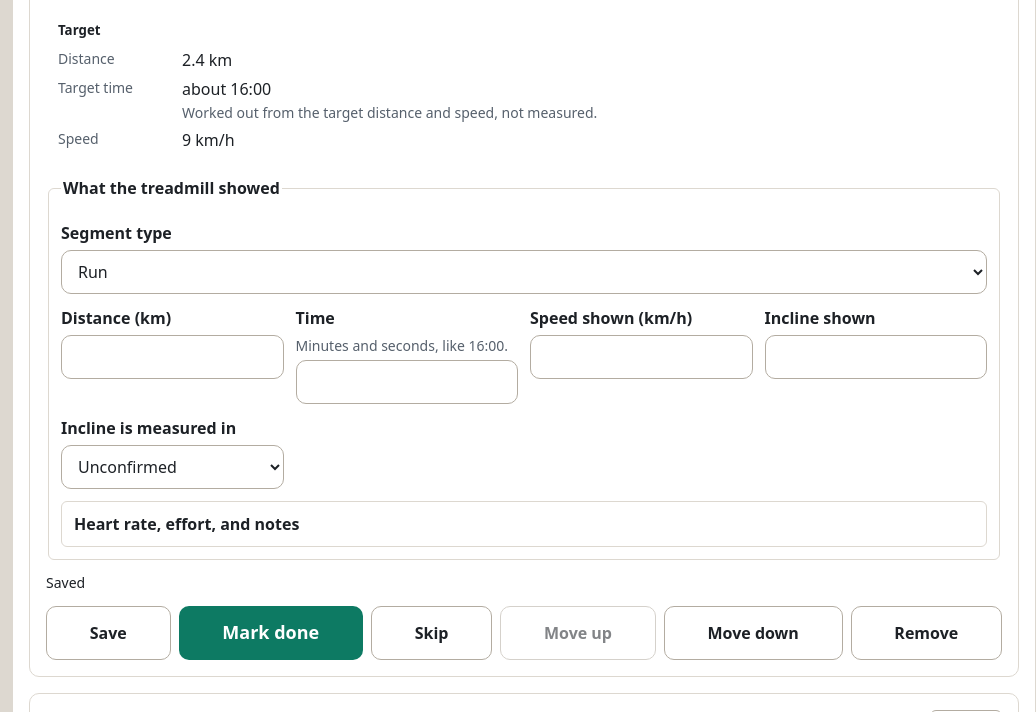
Test: completing a segment › writes the final values and the completion together
The image size is (1036, 712).
(page scrolled)
Type "3.05" into the field labelled "Distance (km)" at (172, 357), box x1=61 y1=335 x2=284 y2=379
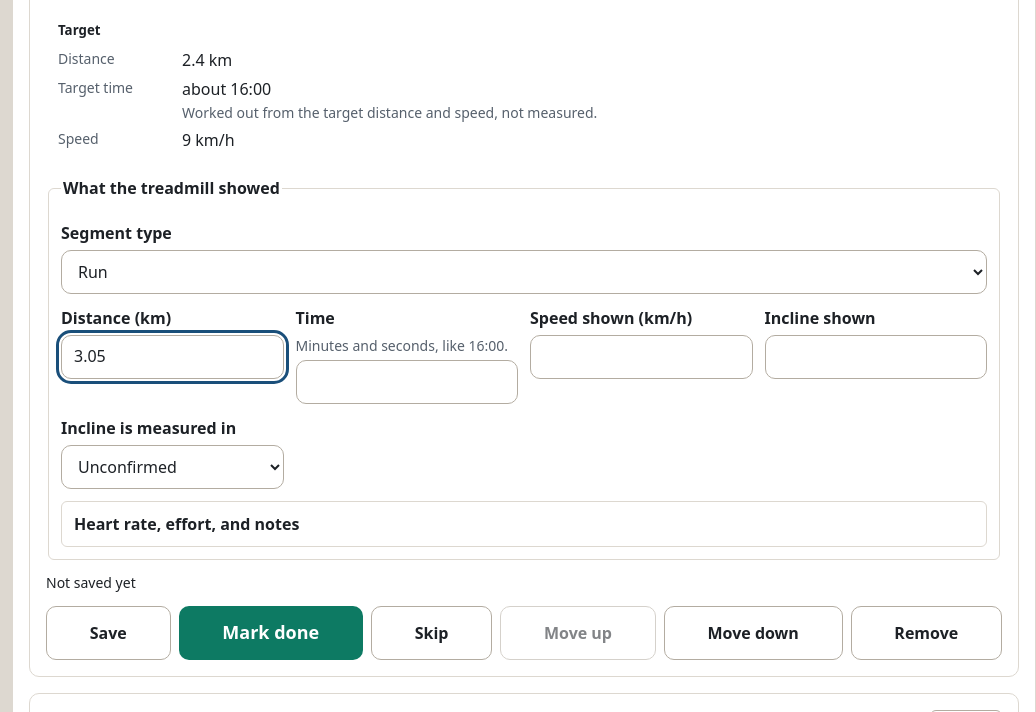
Type "20:50" into the field labelled "Time" at (407, 382), box x1=296 y1=360 x2=518 y2=404
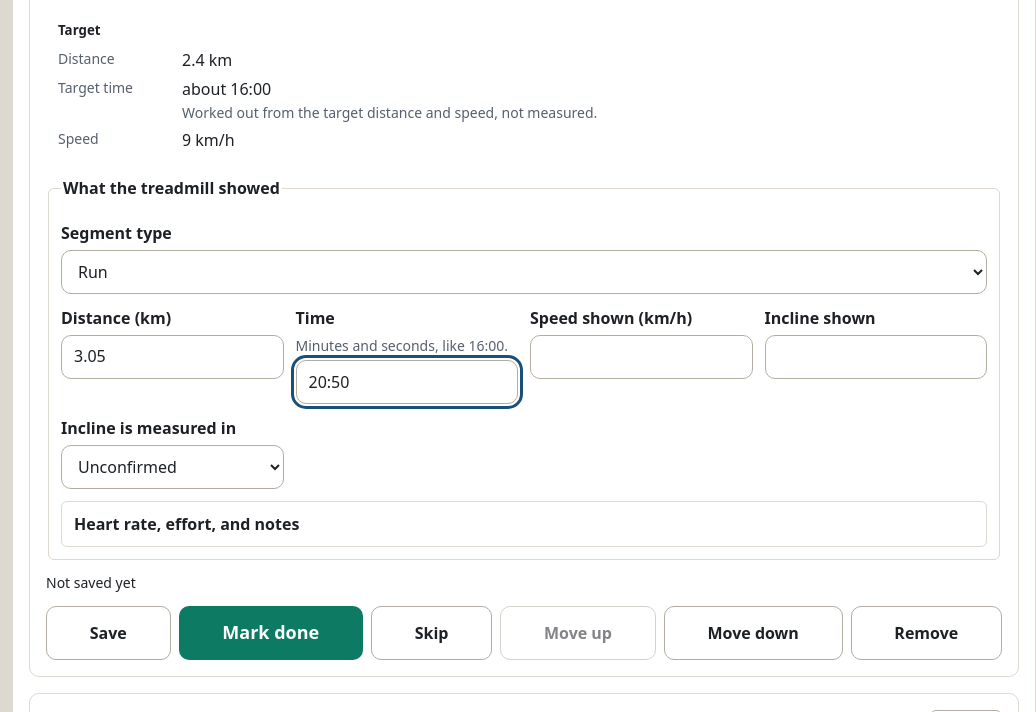
Click the button "Mark done" at (271, 633), box x1=179 y1=606 x2=363 y2=660
(page scrolled)
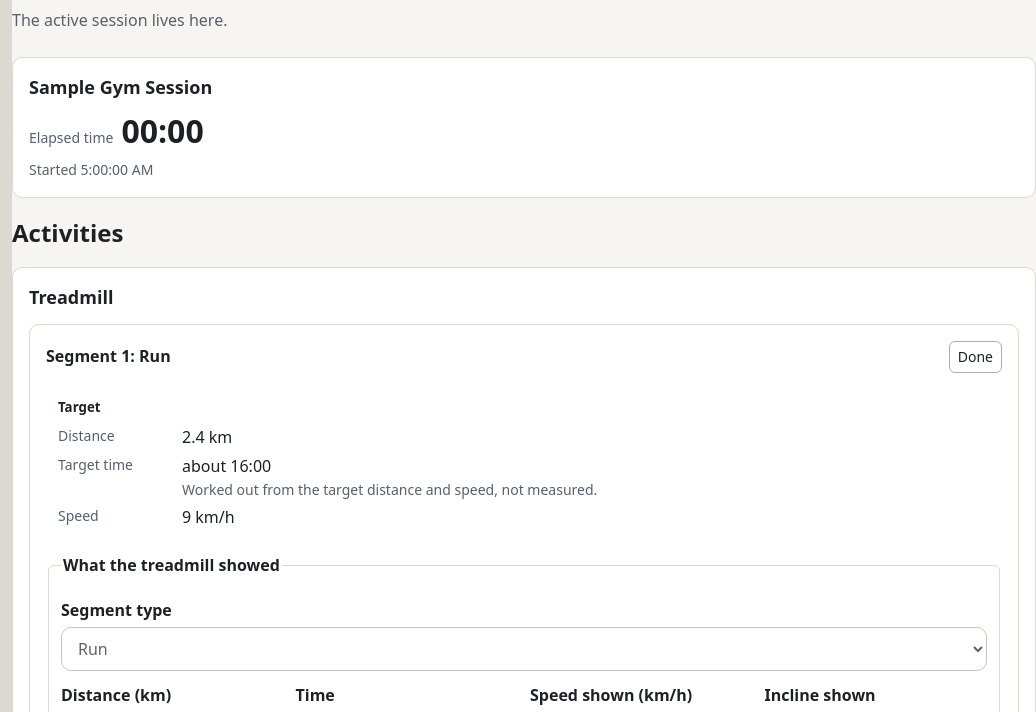
Check: the text "Done" is shown, box x1=949 y1=341 x2=1002 y2=373
